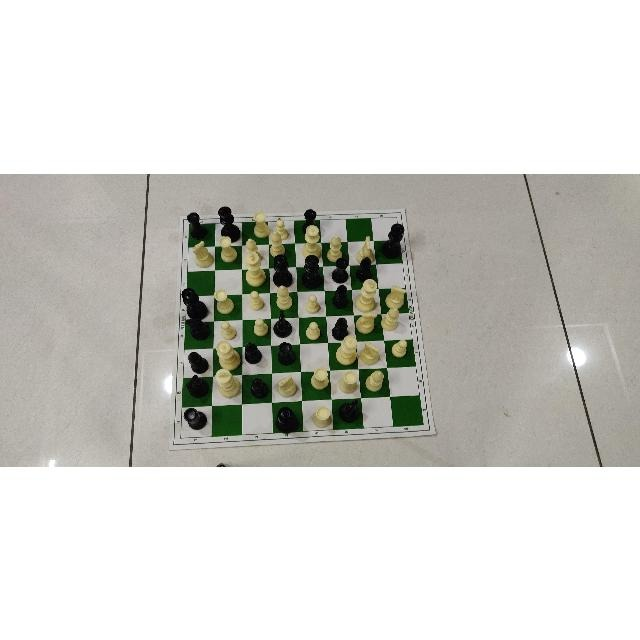black-bishop: (187, 349, 209, 375), (248, 375, 269, 401), (356, 256, 374, 286), (330, 283, 350, 309), (244, 341, 264, 367), (332, 316, 348, 340)
black-king: (217, 203, 240, 244), (382, 220, 404, 259), (300, 254, 323, 288)
black-knight: (272, 310, 295, 338), (184, 316, 212, 339), (184, 374, 210, 398), (338, 398, 362, 423)
black-queen: (180, 287, 209, 319), (271, 253, 294, 289), (275, 405, 299, 433)
black-rook: (182, 405, 207, 431), (187, 210, 209, 237), (277, 339, 297, 366), (301, 206, 319, 234), (331, 257, 349, 282)
white-bishop: (242, 236, 265, 264), (363, 369, 386, 393), (273, 285, 295, 309), (381, 306, 399, 333), (269, 229, 287, 255), (327, 234, 344, 261)
white-king: (244, 250, 268, 288), (214, 367, 242, 398), (355, 277, 378, 311)
white-knight: (192, 239, 214, 267), (355, 235, 376, 263), (384, 284, 406, 310), (274, 374, 299, 396), (360, 342, 382, 366), (356, 309, 376, 333)
white-pawn: (302, 292, 322, 314), (390, 339, 410, 359), (272, 219, 291, 240), (248, 289, 266, 311), (304, 321, 323, 341), (218, 319, 238, 338), (252, 316, 270, 335)
white-queen: (302, 223, 323, 259), (215, 341, 241, 369), (336, 333, 358, 364)
white-rook: (218, 233, 238, 262), (310, 405, 333, 429), (252, 210, 272, 237), (213, 288, 234, 313), (309, 366, 330, 389), (339, 371, 359, 395)
